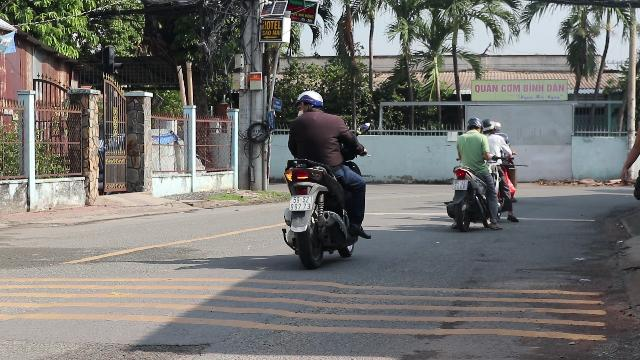helmet: (294, 89, 324, 113), (465, 116, 481, 132)
licenseplate: (289, 195, 311, 210), (452, 180, 468, 189)
motorcyclist: (278, 89, 372, 267), (446, 116, 516, 230)
